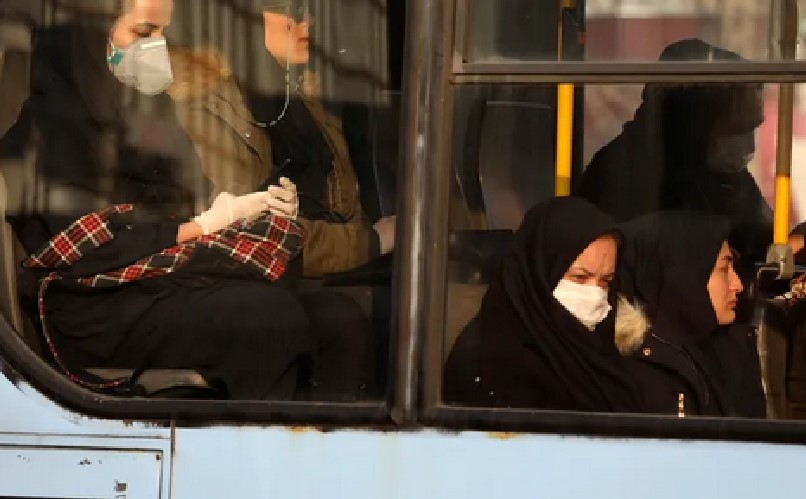face_with_mask: (648, 36, 764, 176), (521, 200, 626, 334), (87, 5, 179, 100)
